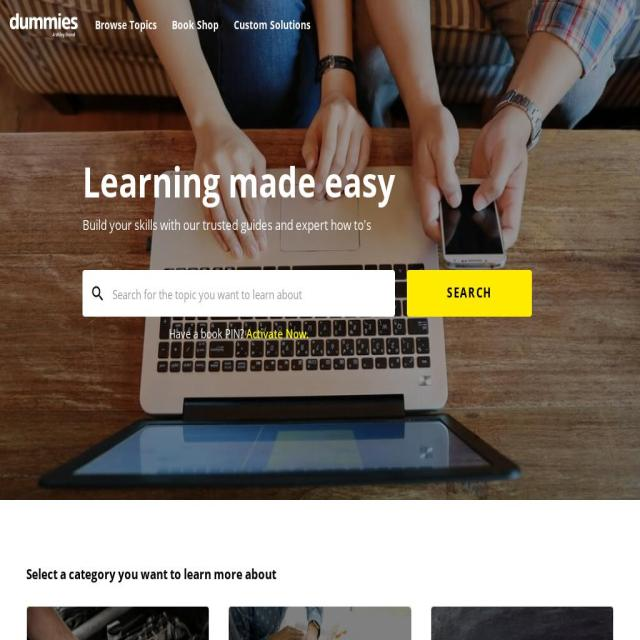button: (26, 606, 210, 640), (228, 606, 412, 640), (430, 606, 614, 640), (407, 269, 532, 317), (0, 0, 88, 50), (88, 0, 164, 50)
field: (83, 269, 395, 317)
heading: (82, 150, 558, 213), (26, 562, 614, 586)
image: (26, 606, 209, 640), (228, 606, 411, 640), (430, 606, 613, 640), (10, 14, 78, 38)
text: (82, 212, 558, 236), (233, 8, 310, 42), (95, 8, 157, 42), (172, 8, 219, 42), (169, 324, 246, 342), (246, 324, 309, 342)
